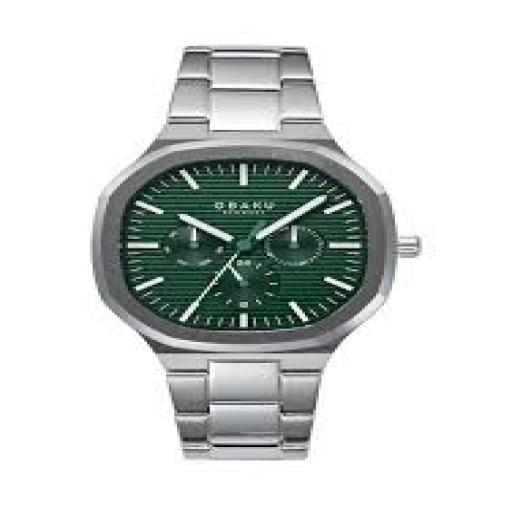KolSaati: (65, 26, 425, 474)
